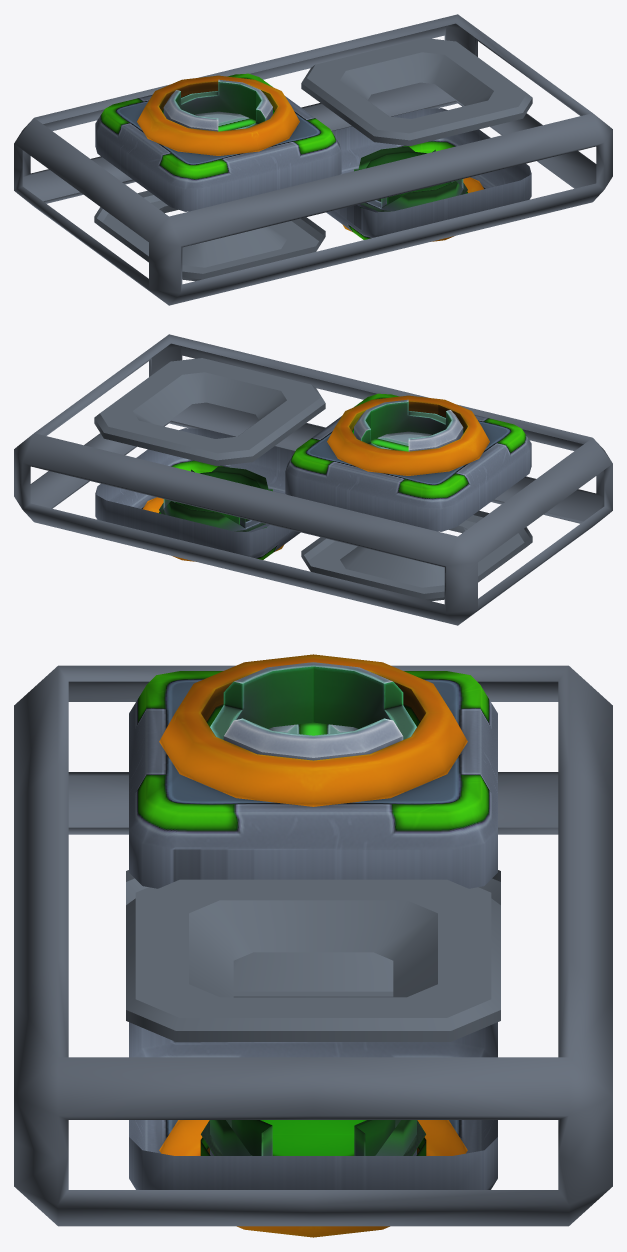
File: fant_mcp_offset_2.obj
3 renders of one model, top to bottom at view 1: azimuth 30°, elevation 25°; view 2: azimuth 150°, elevation 25°; view 3: azimuth 270°, elevation 25°, orthographic. The views are drawn at different scales.
Visible parts, largest first — view 1: fant_mcp_offset_2_Mesh.003; view 2: fant_mcp_offset_2_Mesh.003; view 3: fant_mcp_offset_2_Mesh.003.
Part boxes in pixels (left/top/right/bottom): fant_mcp_offset_2_Mesh.003: left=14, top=14, right=612, bottom=305; fant_mcp_offset_2_Mesh.003: left=14, top=334, right=612, bottom=625; fant_mcp_offset_2_Mesh.003: left=14, top=654, right=612, bottom=1237.
Size of the model in its own units: 4.88 by 1.67 by 2.88.
